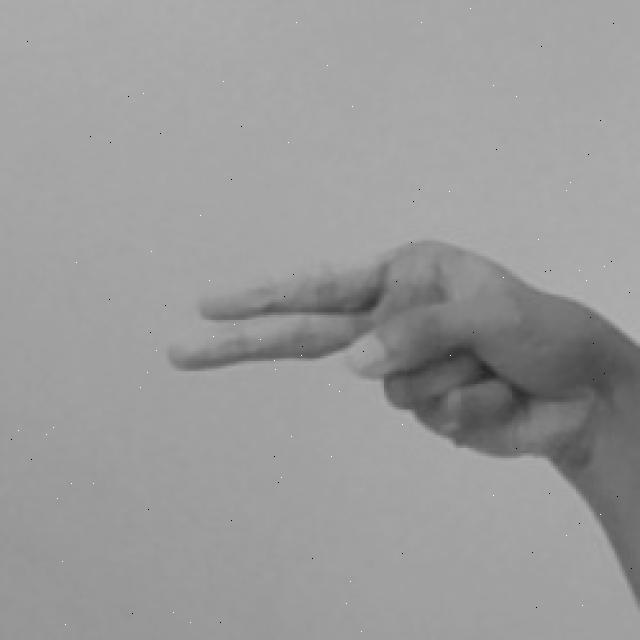H: (161, 233, 640, 619), (163, 238, 640, 602)
